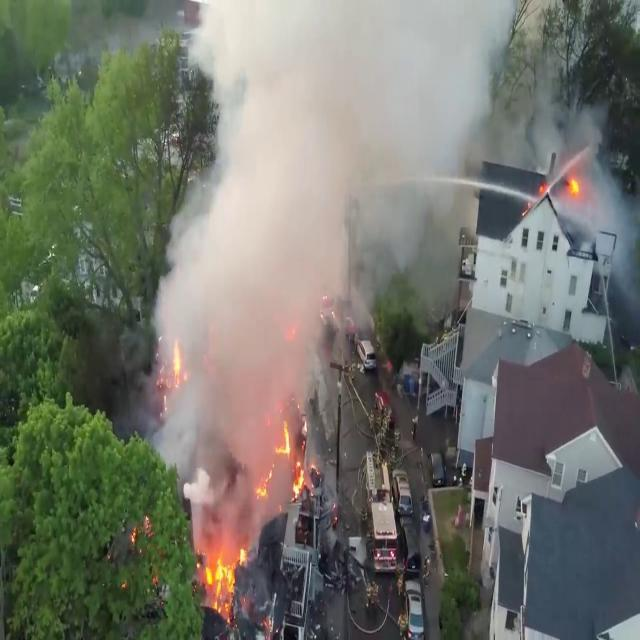Fire: (200, 538, 248, 618), (278, 418, 314, 496), (564, 170, 584, 204)
Smoke: (144, 3, 501, 475), (537, 76, 637, 283)
